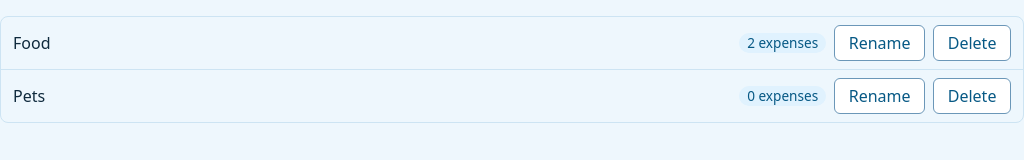
Test: renames inline
This screenshot has width=1024, height=160.
Click the button with aria-label "Rename Pets".
click(880, 96)  # box [834,78,925,114]
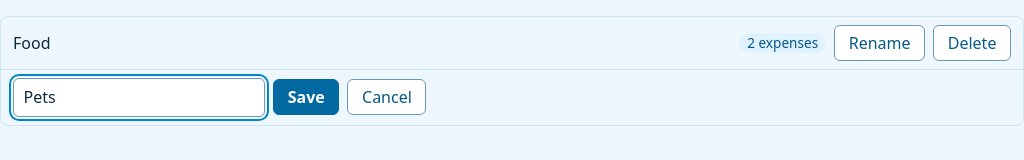
Replace the text in the field named "New name for Pets" with "Animals" at (139, 97), box [13,78,265,117]
Then press Enter
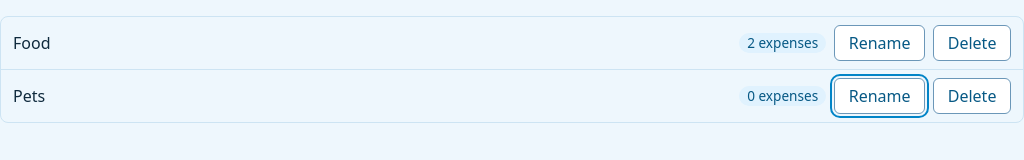
Expected: the field is gone
